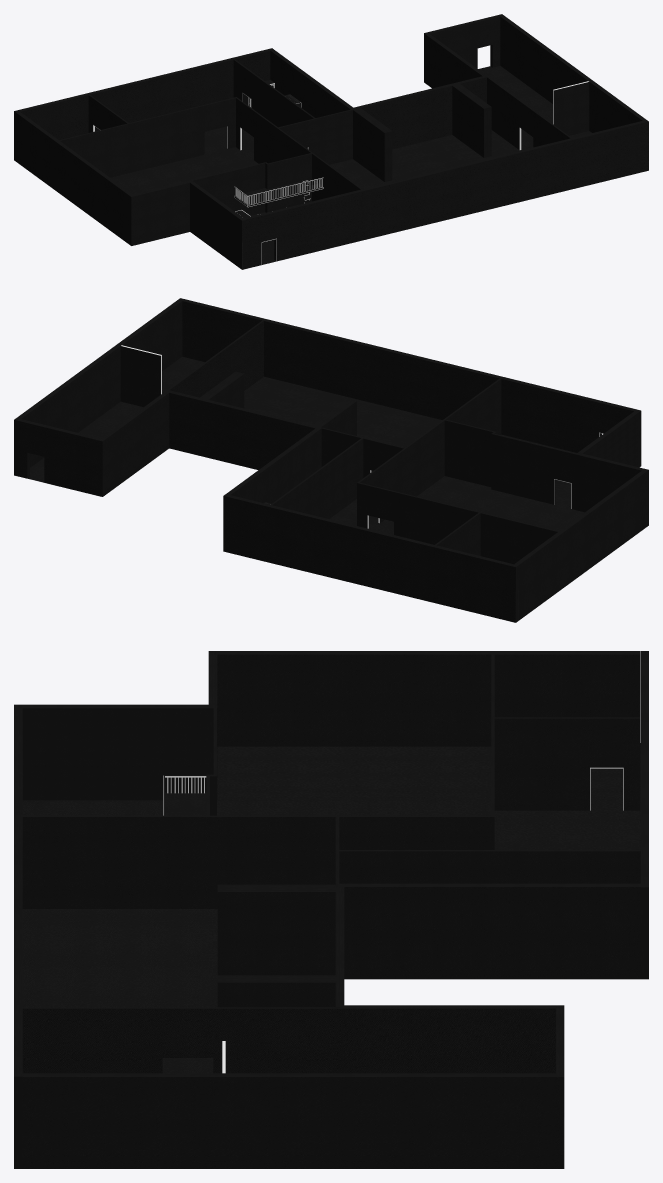
File: WareHouse_001.FBX
3 renders of one model, top to bottom at view 1: azimuth 30°, elevation 25°; view 2: azimuth 150°, elevation 25°; view 3: azimuth 270°, elevation 25°, orthographic. The views are drawn at different scales.
Visible parts, largest first — view 1: LVL_01; view 2: LVL_01; view 3: LVL_01.
Boxes of the visible parts, <box> form: LVL_01: <box>14,14,648,269</box>; LVL_01: <box>14,298,648,622</box>; LVL_01: <box>14,651,648,1168</box>.
Size of the model in its own units: 2343 by 236 by 1477.
